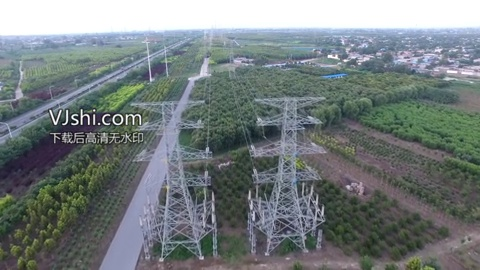tower_body: (130, 97, 225, 266), (247, 91, 330, 259)
tower_foot: (141, 213, 218, 263), (248, 207, 325, 255)
tower_head: (133, 99, 206, 131), (253, 94, 325, 126)
